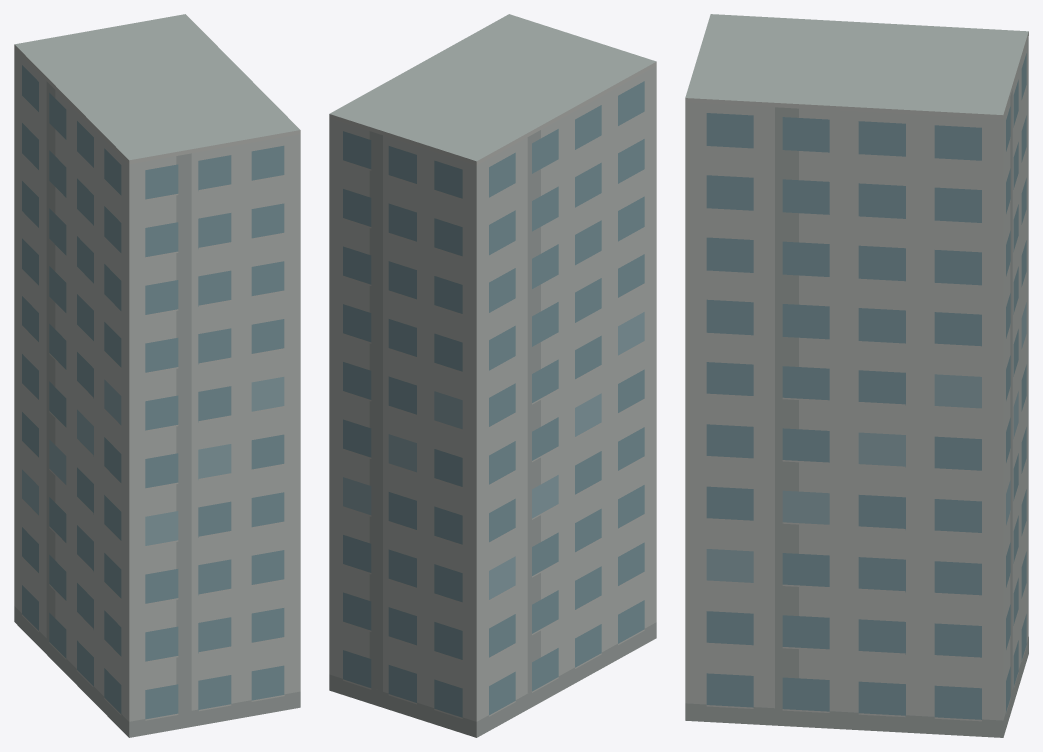
Rendered from residential-e894f1de-1048-4208-89f8-aa82528f193a.glb.
3 renders of one model, left to right at view 1: azimuth 30°, elevation 25°; view 2: azimuth 150°, elevation 25°; view 3: azimuth 270°, elevation 25°, orthographic. The views are drawn at different scales.
Visible parts, largest first — view 1: residential-e894f1de-1048-4208-89f8-aa82528f193a.tmp; view 2: residential-e894f1de-1048-4208-89f8-aa82528f193a.tmp; view 3: residential-e894f1de-1048-4208-89f8-aa82528f193a.tmp.
Boxes of the visible parts, x1,y1,x2,y2 form: residential-e894f1de-1048-4208-89f8-aa82528f193a.tmp: (14,14,300,737); residential-e894f1de-1048-4208-89f8-aa82528f193a.tmp: (329,14,656,737); residential-e894f1de-1048-4208-89f8-aa82528f193a.tmp: (685,14,1028,737).
Size of the model in its own units: 11.85 by 34 by 17.01.
